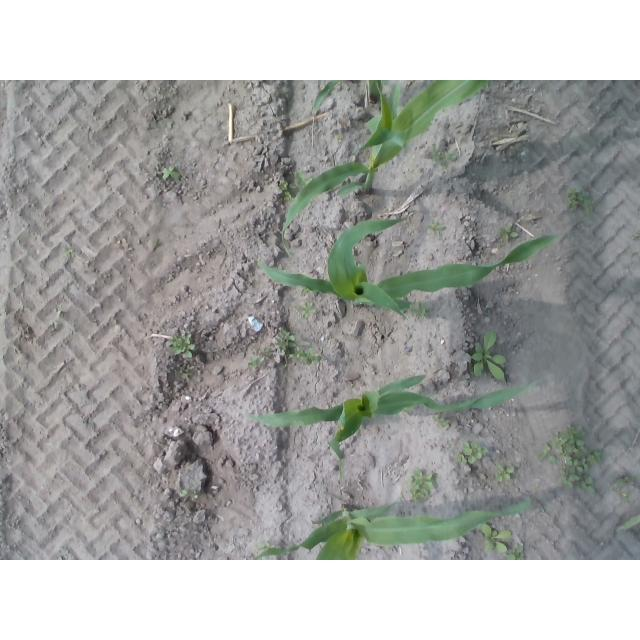Maize: (279, 81, 526, 259), (246, 375, 551, 489), (260, 217, 577, 319), (253, 496, 534, 559)
Weeds: (544, 422, 601, 495), (470, 331, 515, 389), (483, 523, 525, 557), (609, 471, 640, 505), (406, 466, 434, 503), (247, 344, 281, 374), (459, 440, 489, 469), (170, 332, 198, 361), (292, 345, 325, 367), (272, 329, 298, 356), (157, 163, 188, 184), (284, 173, 309, 199), (564, 191, 594, 210), (434, 150, 457, 171), (427, 220, 449, 240), (432, 416, 456, 433), (300, 301, 316, 326), (499, 228, 525, 241), (499, 462, 514, 484), (179, 488, 202, 501)
